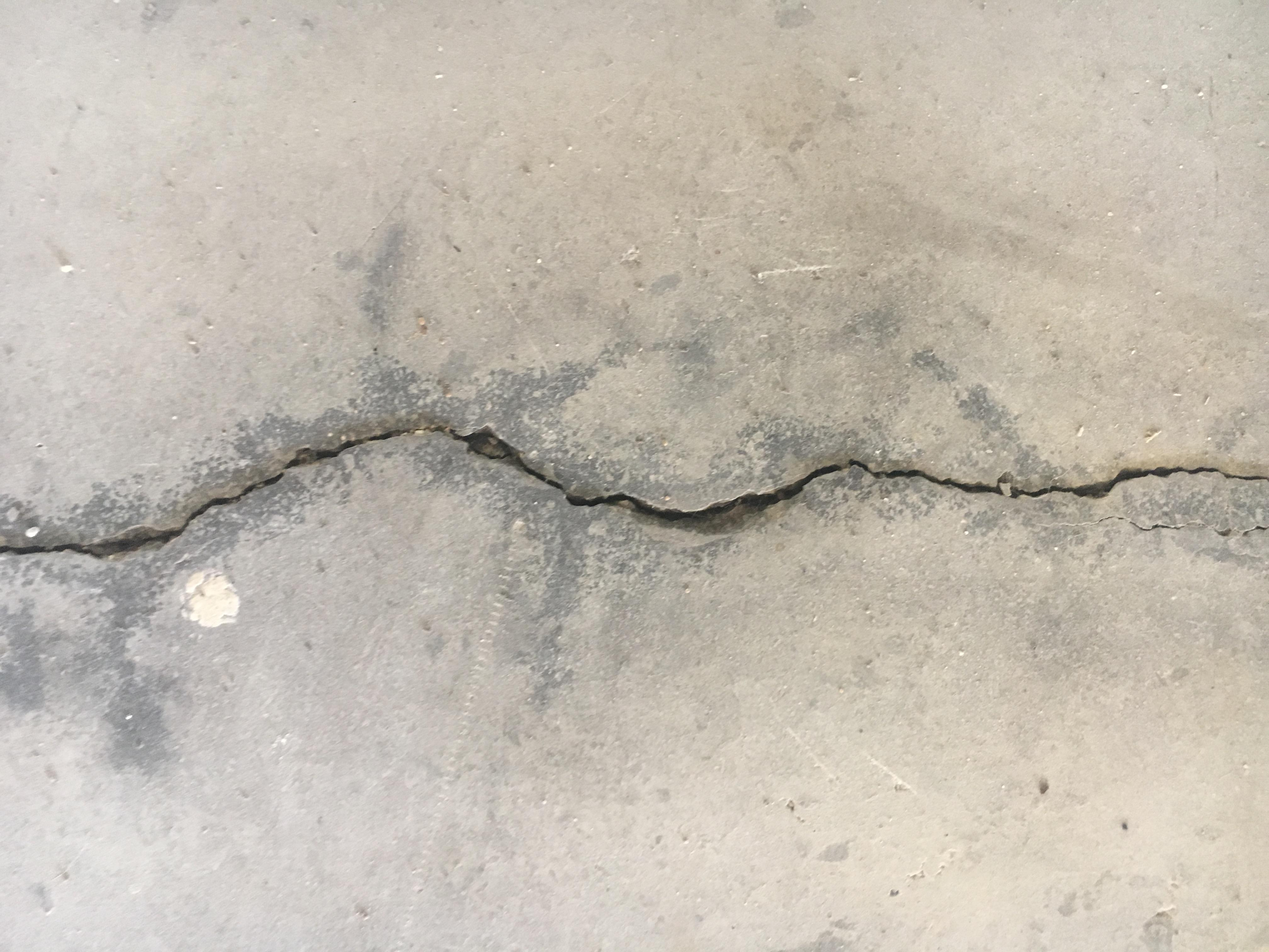Horizontal Settlement Crack: (3, 418, 1266, 561)
